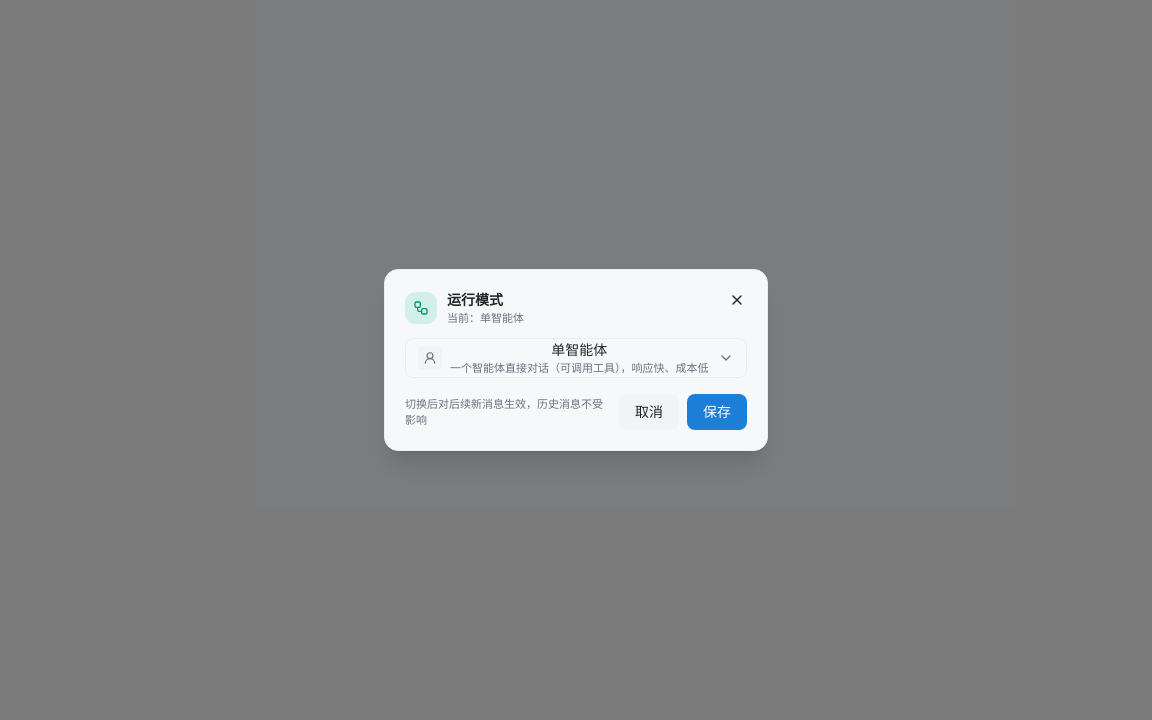
Test: ModeDialog › 切到 orchestrate 显示方案区且默认 fixed
展开模式下拉并选择多智能体编排
Click the button "单智能体 一个智能体直接对话（可调用工具），响应快、成本低": x=576, y=358 [405, 338, 747, 378]
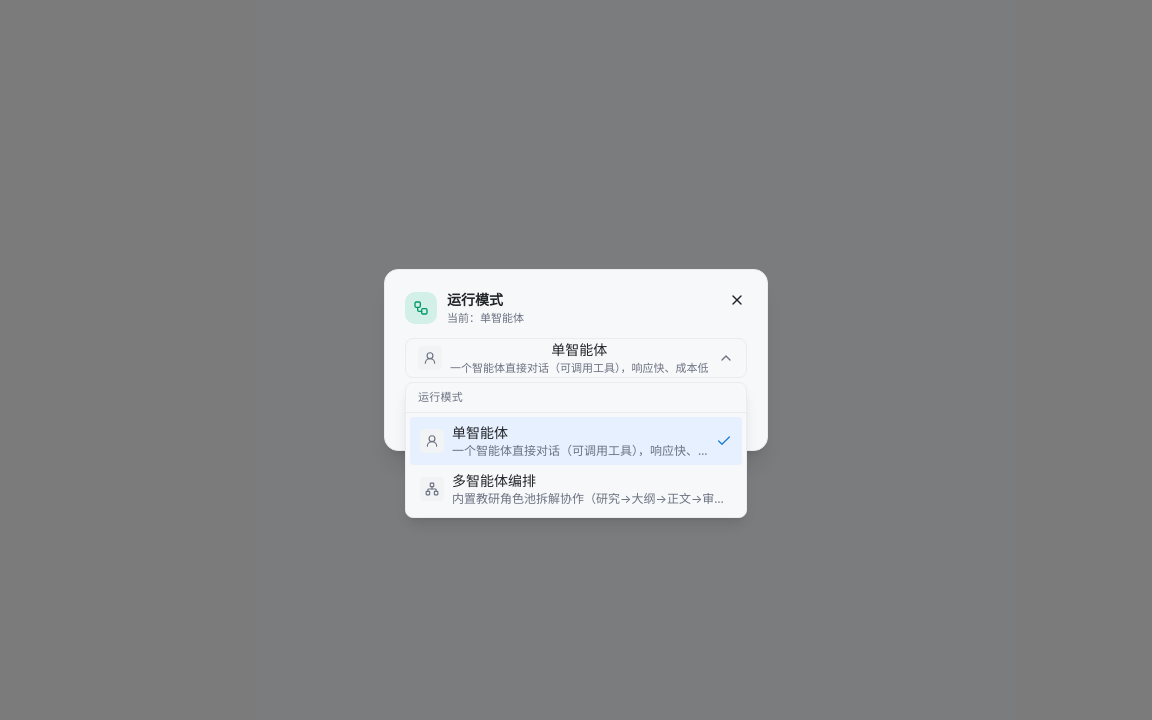
Click the option "多智能体编排 内置教研角色池拆解协作（研究→大纲→正文→审核），质量更高、耗时更长": x=576, y=489 [410, 465, 742, 513]
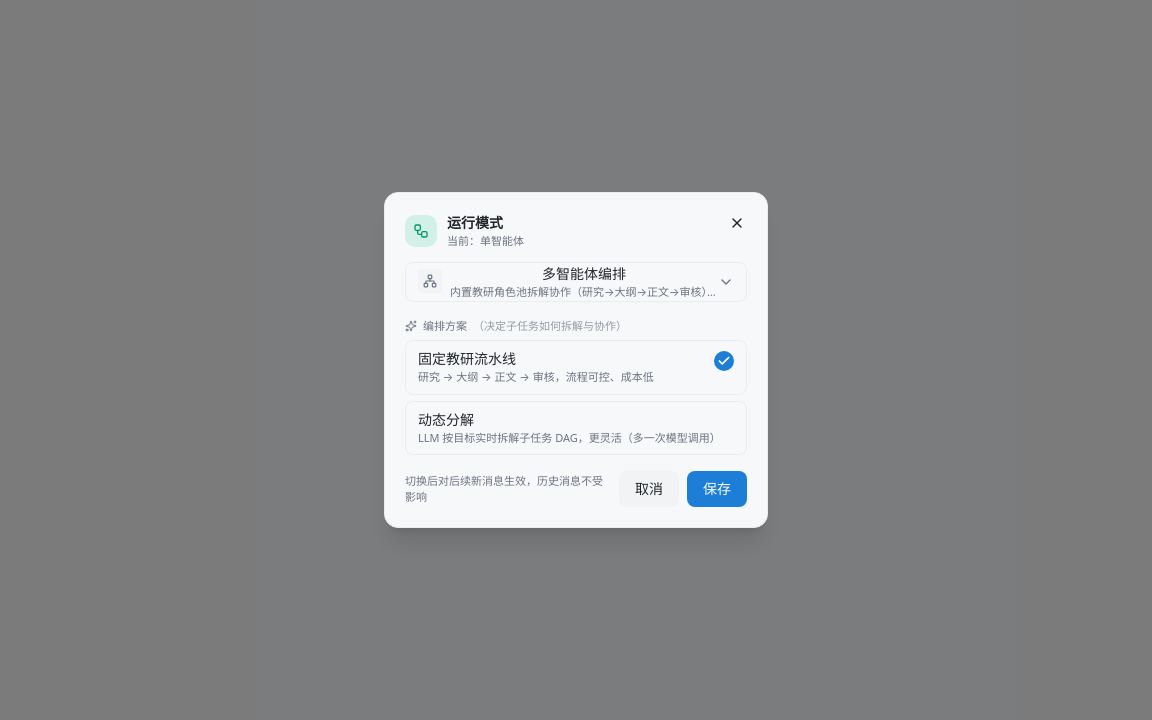
Now the text "编排方案" is shown, box [423, 318, 467, 332]
Now the text "固定教研流水线" is shown, box [418, 349, 516, 368]
Now the text "动态分解" is shown, box [418, 410, 474, 428]
